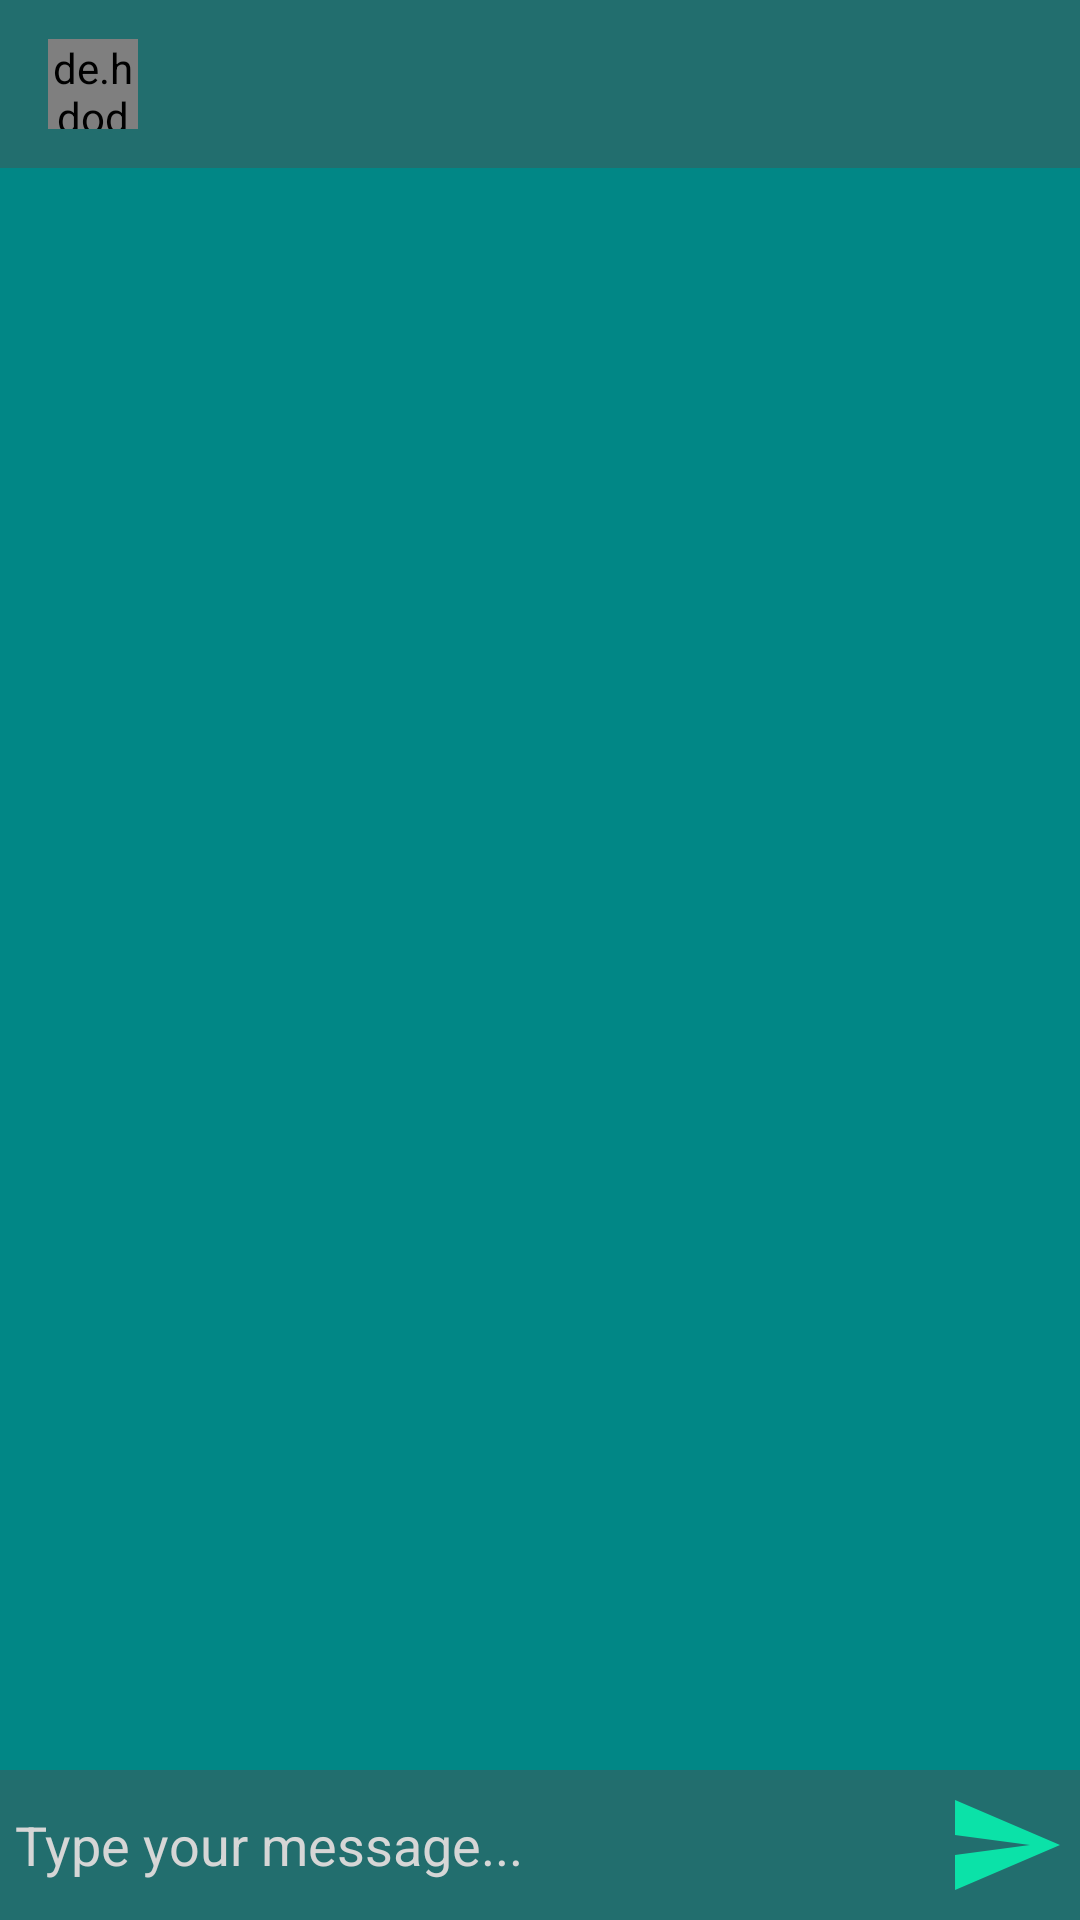

Icon bounding boxes for this 1080*1920 phone screenshot, format [x1,y1,x2,y2]:
send: [955,1800,1059,1890]
